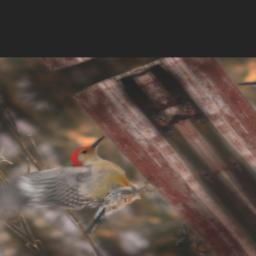Woodpecker: (0, 133, 165, 252)
